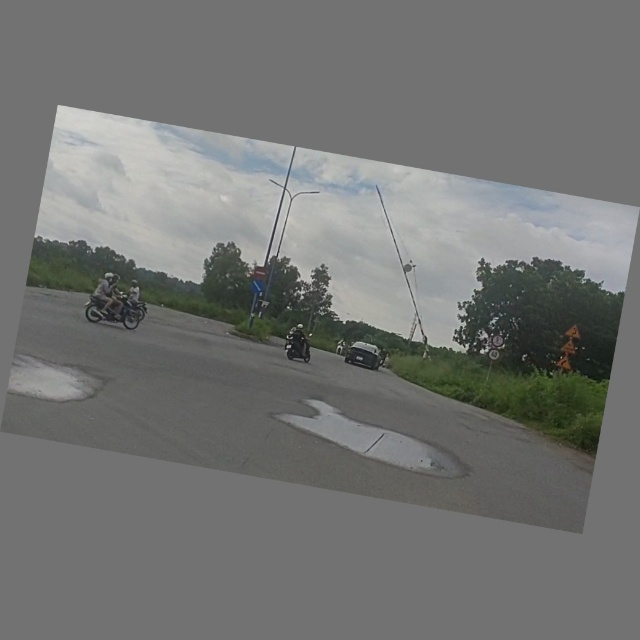P.102: (252, 265, 269, 282)
P.127*40: (489, 348, 502, 363)
R.302a: (249, 279, 267, 297)
W.201b: (555, 354, 576, 372)
W.245a: (560, 337, 580, 355)
W.246c: (564, 321, 584, 340)
